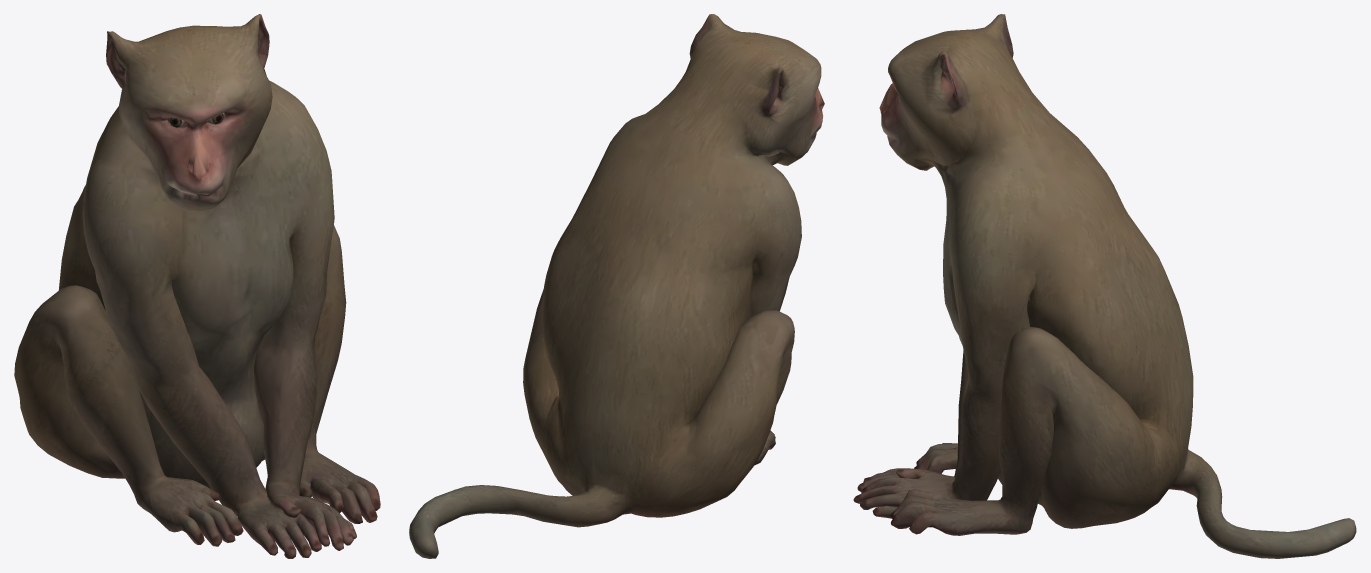
The model's file is macaque.glb.
3 renders of one model, left to right at view 1: azimuth 30°, elevation 25°; view 2: azimuth 150°, elevation 25°; view 3: azimuth 270°, elevation 25°, orthographic. The views are drawn at different scales.
Visible parts, largest first — view 1: Object_5; view 2: Object_5; view 3: Object_5.
Boxes of the visible parts, x1,y1,x2,y2 form: Object_5: (14, 14, 380, 558); Object_5: (409, 14, 824, 558); Object_5: (853, 14, 1356, 558).
Size of the model in its own units: 0.3264 by 0.512 by 0.5203.
Materials: 1 (1 with a texture image).
